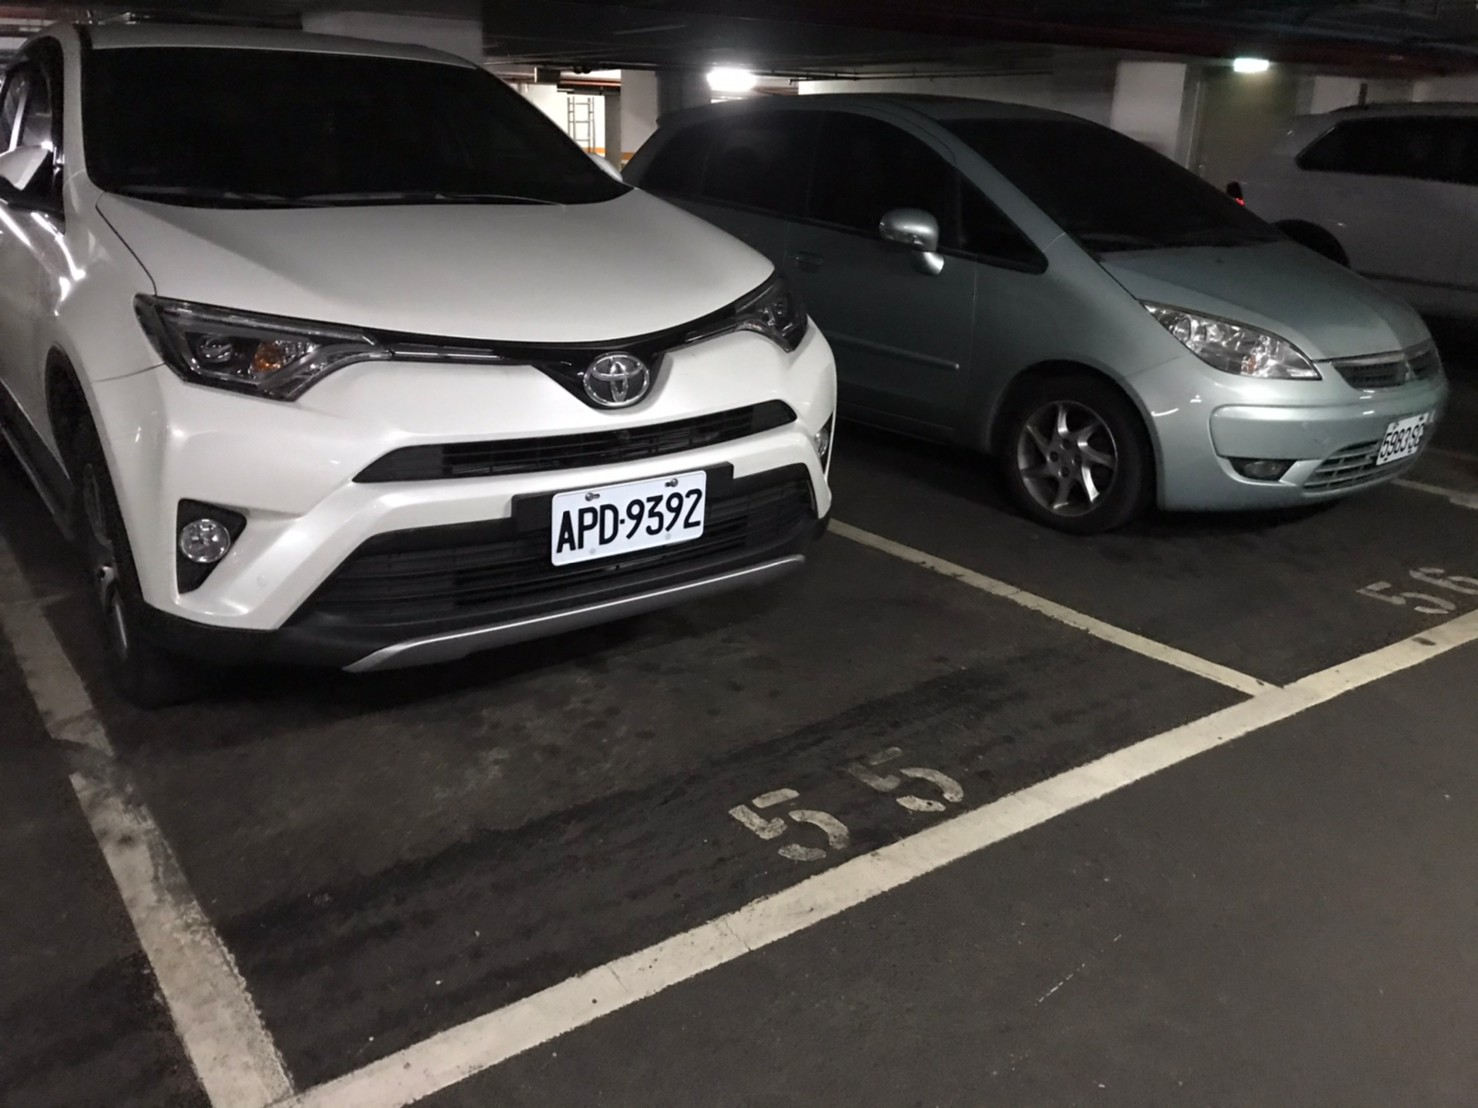LP: (539, 466, 722, 574), (1373, 411, 1430, 469)
